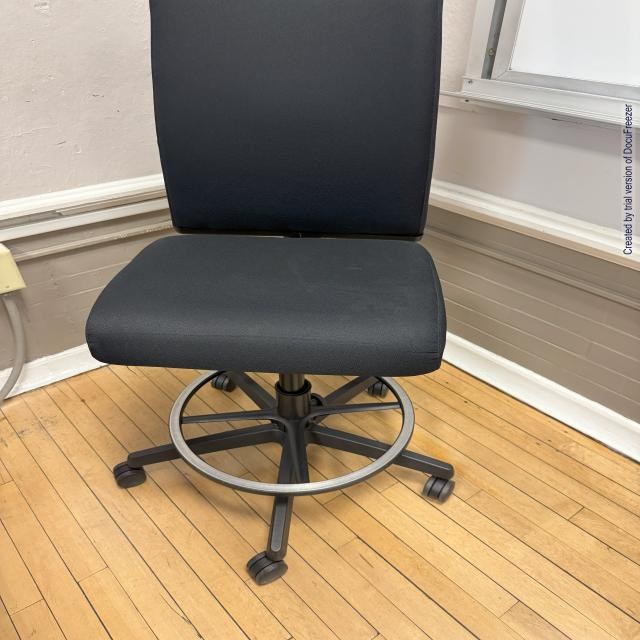chair: (121, 0, 480, 586)
